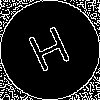H: (25, 25, 77, 82)
